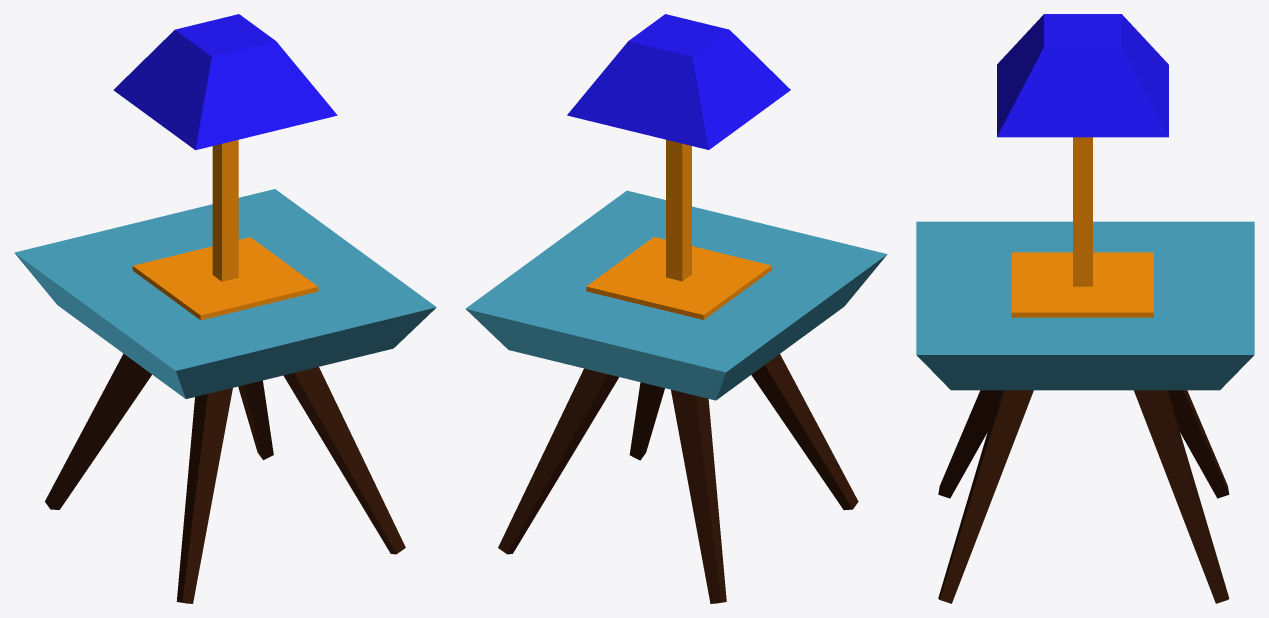
Rendered from House_Anywhere_LampTable.FBX.
3 renders of one model, left to right at view 1: azimuth 30°, elevation 25°; view 2: azimuth 150°, elevation 25°; view 3: azimuth 270°, elevation 25°, orthographic. The views are drawn at different scales.
Visible parts, largest first — view 1: House_Anywhere_LampTable_table, House_Anywhere_LampTable_lampShade, House_Anywhere_LampTable_lampBase, House_Anywhere_LampTable_leg3, House_Anywhere_LampTable_leg4, House_Anywhere_LampTable_leg1, House_Anywhere_LampTable_leg2; view 2: House_Anywhere_LampTable_table, House_Anywhere_LampTable_lampShade, House_Anywhere_LampTable_lampBase, House_Anywhere_LampTable_leg1, House_Anywhere_LampTable_leg2, House_Anywhere_LampTable_leg3, House_Anywhere_LampTable_leg4; view 3: House_Anywhere_LampTable_table, House_Anywhere_LampTable_lampShade, House_Anywhere_LampTable_lampBase, House_Anywhere_LampTable_leg4, House_Anywhere_LampTable_leg2, House_Anywhere_LampTable_leg1, House_Anywhere_LampTable_leg3.
Part boxes in pixels (<box>): House_Anywhere_LampTable_table: <box>14,189,436,398</box>; House_Anywhere_LampTable_lampShade: <box>113,14,337,150</box>; House_Anywhere_LampTable_lampBase: <box>132,140,318,320</box>; House_Anywhere_LampTable_leg3: <box>176,388,232,603</box>; House_Anywhere_LampTable_leg4: <box>283,367,405,554</box>; House_Anywhere_LampTable_leg1: <box>45,353,151,509</box>; House_Anywhere_LampTable_leg2: <box>238,380,273,460</box>; House_Anywhere_LampTable_table: <box>465,190,887,400</box>; House_Anywhere_LampTable_lampShade: <box>567,14,790,149</box>; House_Anywhere_LampTable_lampBase: <box>586,139,771,319</box>; House_Anywhere_LampTable_leg1: <box>671,389,726,603</box>; House_Anywhere_LampTable_leg2: <box>498,368,619,554</box>; House_Anywhere_LampTable_leg3: <box>751,354,858,510</box>; House_Anywhere_LampTable_leg4: <box>629,382,664,460</box>; House_Anywhere_LampTable_table: <box>916,221,1254,390</box>; House_Anywhere_LampTable_lampShade: <box>997,14,1168,137</box>; House_Anywhere_LampTable_lampBase: <box>1011,137,1153,317</box>; House_Anywhere_LampTable_leg4: <box>938,390,1033,603</box>; House_Anywhere_LampTable_leg2: <box>1134,390,1229,603</box>; House_Anywhere_LampTable_leg1: <box>1167,390,1229,498</box>; House_Anywhere_LampTable_leg3: <box>938,390,999,498</box>.
Bounding box in the file's own units: 113 × 206 × 122.
